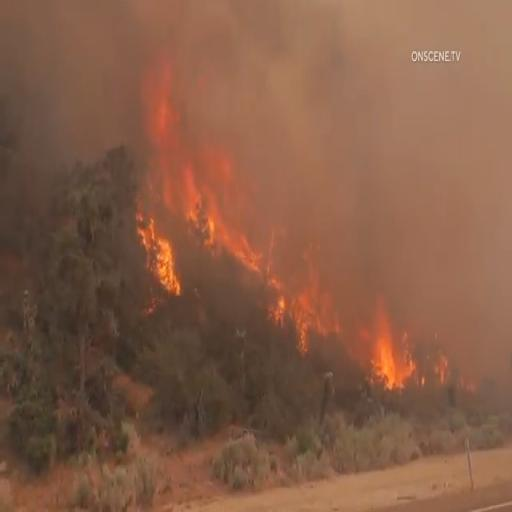fire: (187, 173, 302, 316), (96, 171, 161, 305), (346, 308, 430, 393), (150, 119, 201, 237)
smoke: (309, 71, 512, 267), (103, 12, 392, 125)
